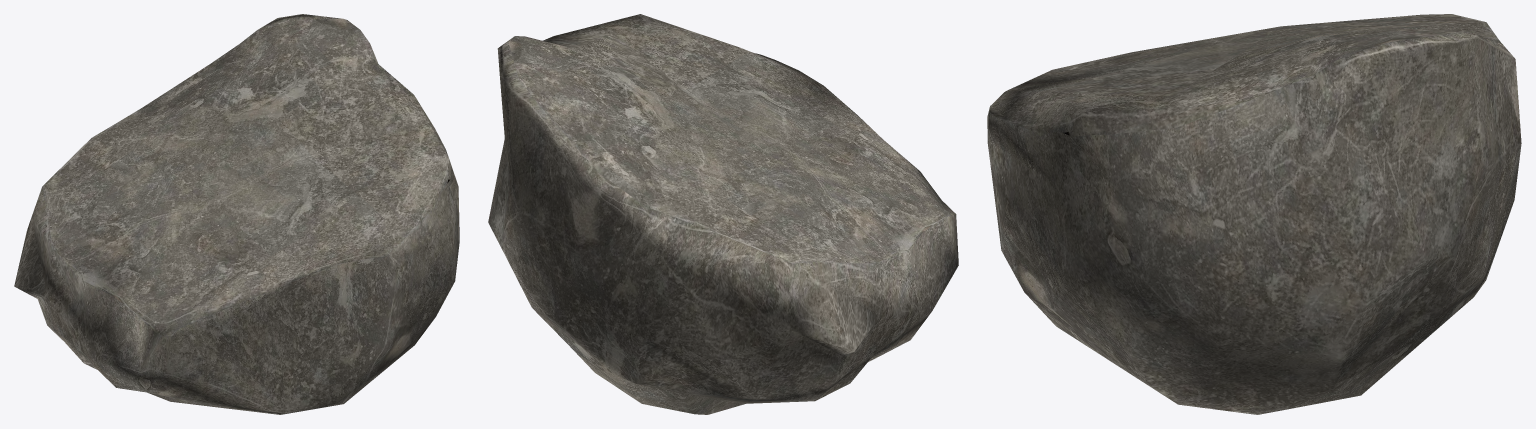
The model's file is prop_boulder_02.glb.
The picture shows the model from 3 angles, left to right: view 1: azimuth 30°, elevation 25°; view 2: azimuth 150°, elevation 25°; view 3: azimuth 270°, elevation 25°; orthographic projection. The views are drawn at different scales.
Parts seen in each view (by area): view 1: prop_boulder_02; view 2: prop_boulder_02; view 3: prop_boulder_02.
Part boxes in pixels (x1,y1,x2,y2): prop_boulder_02: (14, 14, 459, 414); prop_boulder_02: (488, 14, 958, 414); prop_boulder_02: (987, 14, 1521, 414).
Bounding box in the file's own units: 3.45 × 2.8 × 3.2.
Materials: 1 (1 with a texture image).
